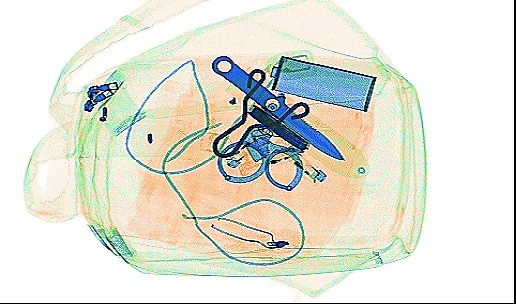handcuffs: (215, 121, 304, 189)
knife: (209, 53, 345, 162), (245, 102, 309, 153)
lighter: (271, 136, 327, 186), (237, 140, 304, 176), (224, 132, 259, 169)
slingshot: (210, 66, 310, 158)
zippooil: (268, 54, 377, 112)
